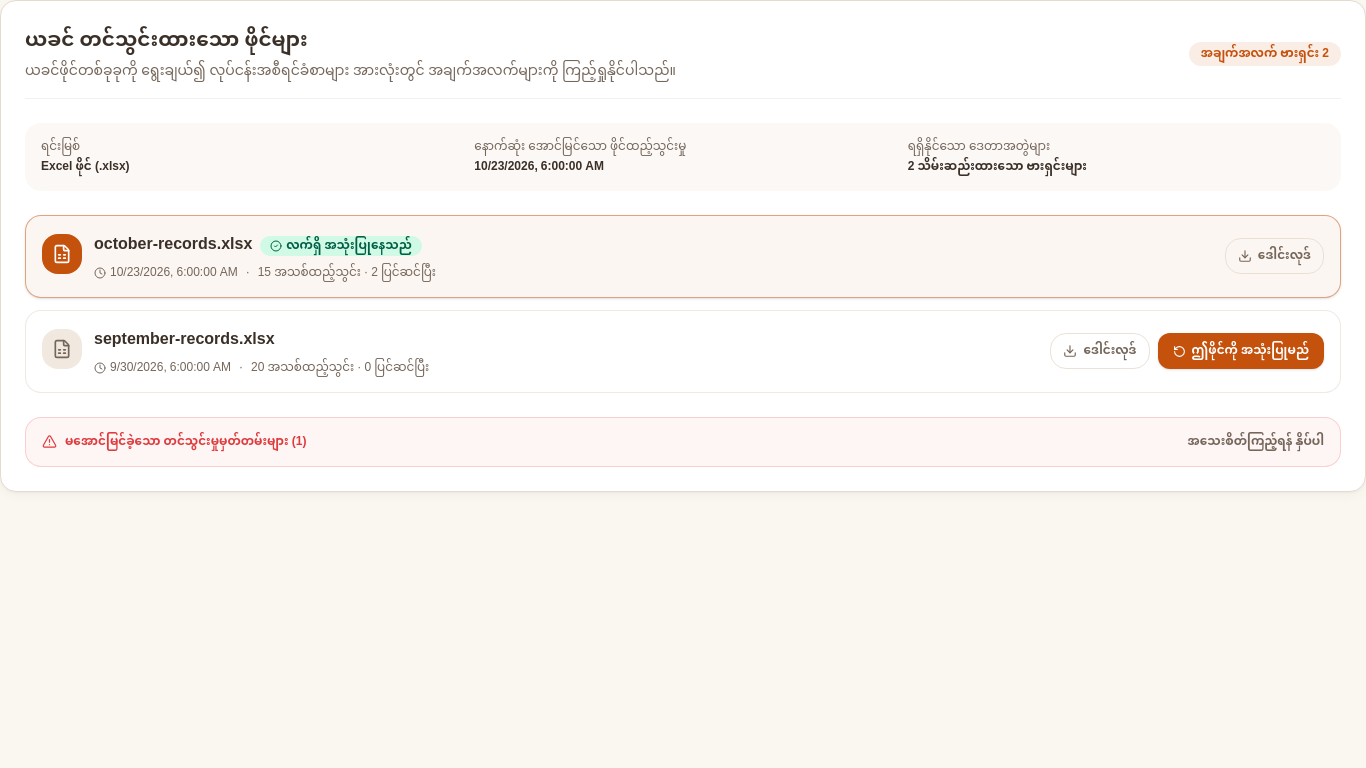
Scenario: SyncStatus History & Snapshot Switcher › labels saved failures as historical in my while retaining their issues
Step 1. Click the 2nd heading → point(50, 442), box [42,434,1324,450]
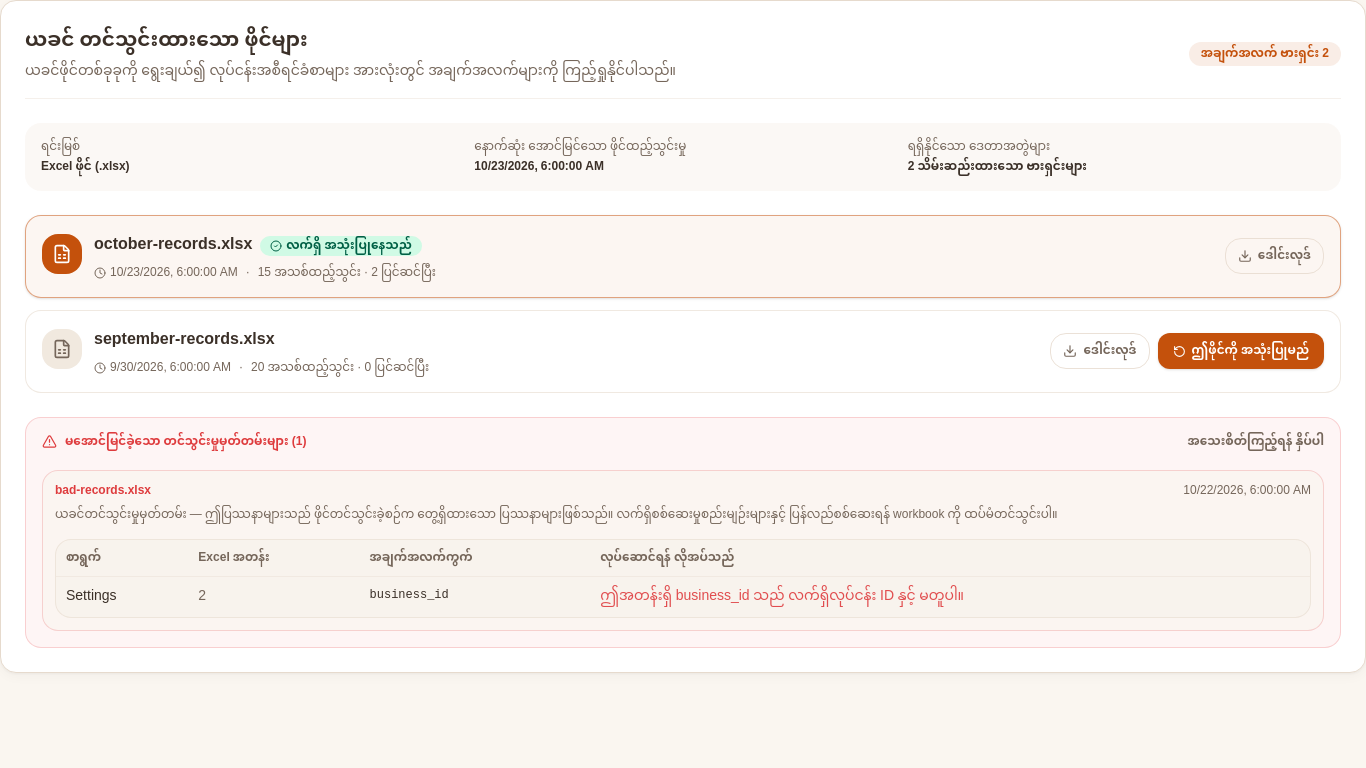
Expected: the text "ယခင်တင်သွင်းမှုမှတ်တမ်း — ဤပြဿနာများသည် ဖိုင်တင်သွင်းခဲ့စဉ်က တွေ့ရှိထားသော ပြဿနာများဖြစ်သည်။ လက်ရှိစစ်ဆေးမှုစည်းမျဉ်းမျာ" is shown, [55,502,1058,528]
Expected: the text "ဤအတန်းရှိ business_id သည် လက်ရှိလုပ်ငန်း ID နှင့် မတူပါ။" is shown, [590,576,1310,617]
